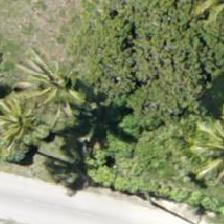coconut_tree: (0, 78, 65, 168)
